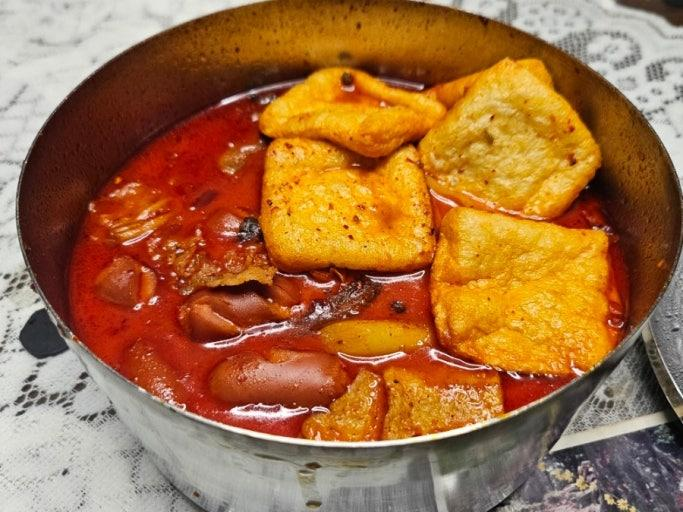Lunch Box: (17, 0, 682, 511)
